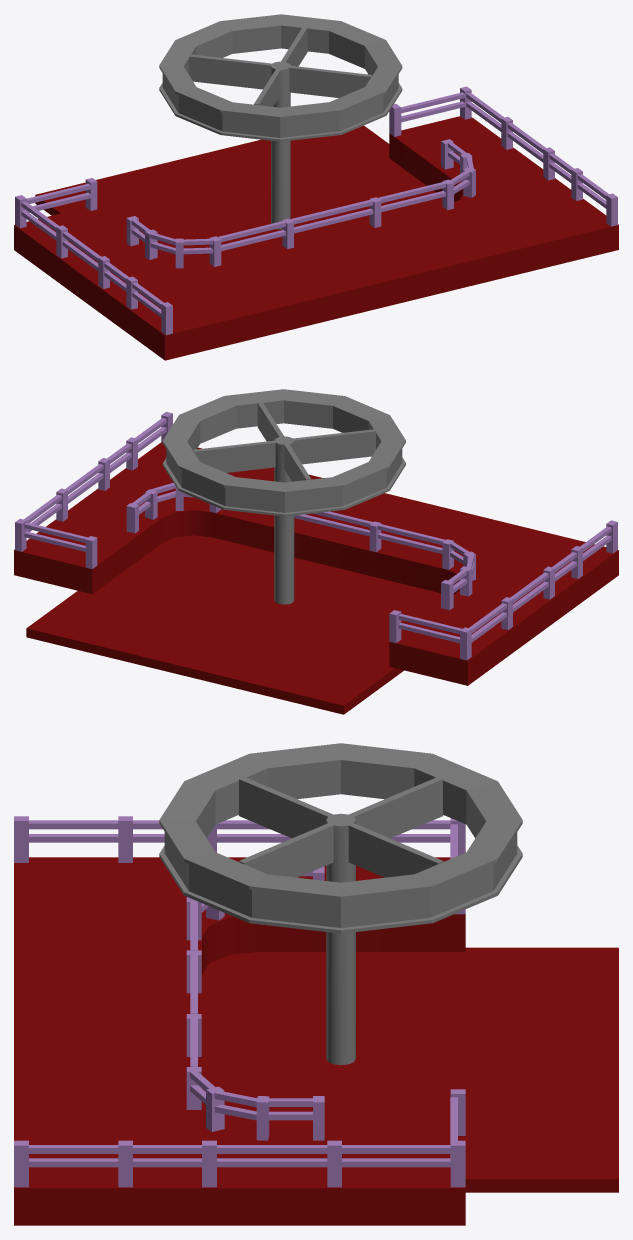
Rendered from Platform.fbx.
3 renders of one model, top to bottom at view 1: azimuth 30°, elevation 25°; view 2: azimuth 150°, elevation 25°; view 3: azimuth 270°, elevation 25°, orthographic. The views are drawn at different scales.
Visible parts, largest first — view 1: floor_2, floor_1, Natiagivatel, Fence; view 2: floor_1, floor_2, Natiagivatel, Fence; view 3: floor_2, floor_1, Natiagivatel, Fence.
Boxes of the visible parts, bbox=[...] form: floor_2: bbox=[14, 116, 618, 360]; floor_1: bbox=[35, 125, 442, 264]; Natiagivatel: bbox=[159, 14, 402, 229]; Fence: bbox=[15, 86, 617, 335]; floor_1: bbox=[26, 535, 440, 714]; floor_2: bbox=[14, 442, 618, 685]; Natiagivatel: bbox=[162, 389, 405, 604]; Fence: bbox=[15, 411, 617, 660]; floor_2: bbox=[14, 857, 465, 1225]; floor_1: bbox=[202, 947, 618, 1192]; Natiagivatel: bbox=[159, 743, 522, 1065]; Fence: bbox=[14, 816, 465, 1187].
Size of the model in its own units: 1328 by 472 by 1026.
